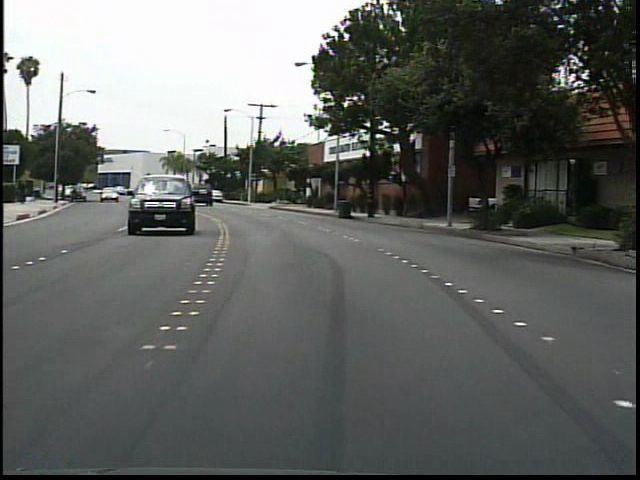person: (16, 180, 32, 207)
